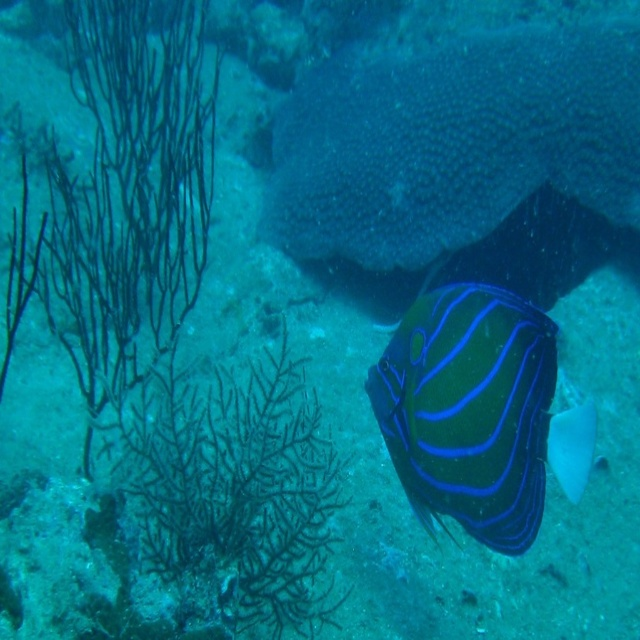Fish: (368, 257, 573, 577)
